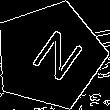N_SW: (17, 23, 82, 88)
